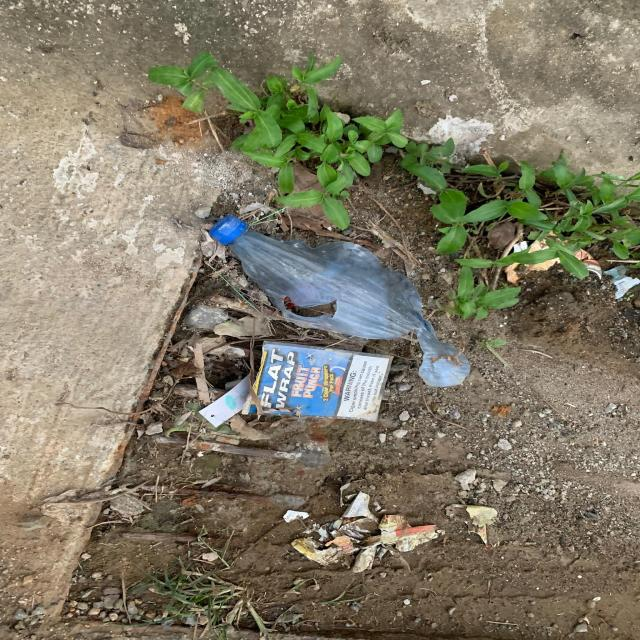litter: (208, 214, 471, 387), (242, 342, 394, 423), (290, 491, 438, 571), (199, 376, 250, 428)
